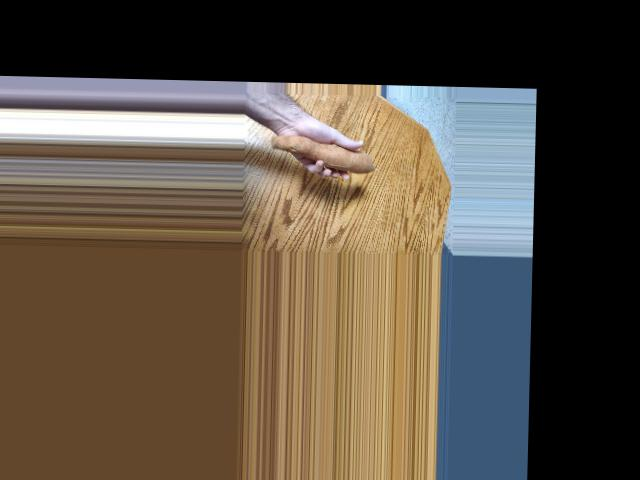sweet_potato: (273, 133, 377, 174)
